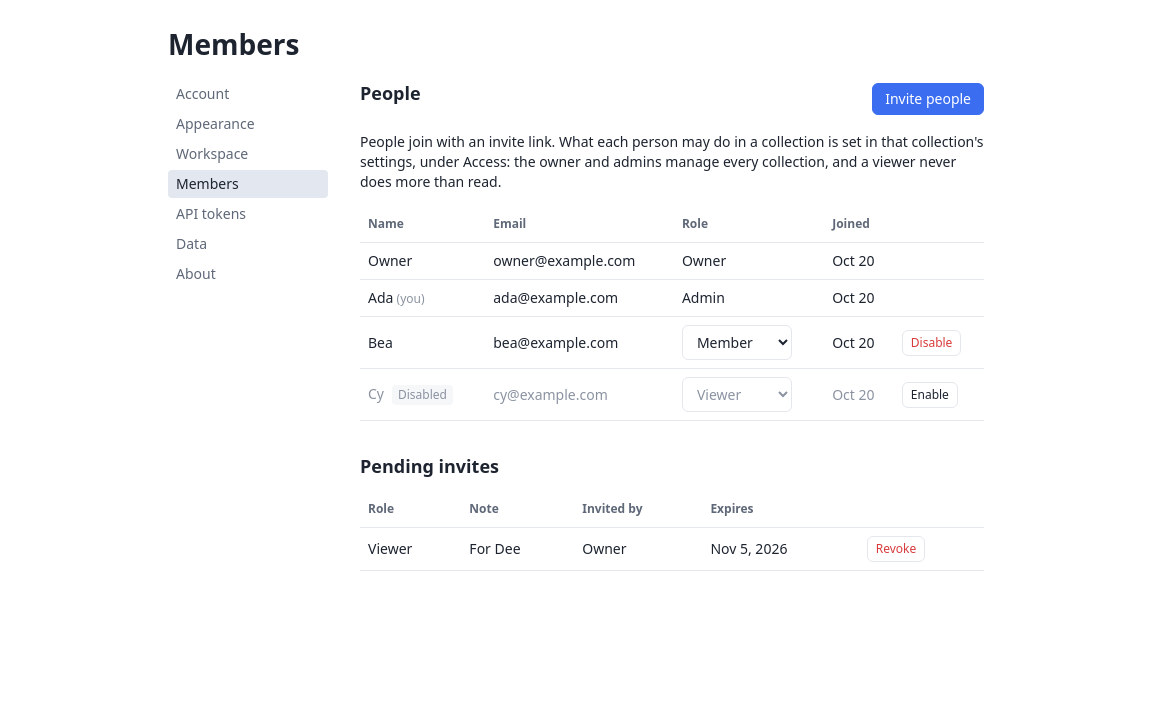
Test: Settings → Members › an admin manages members and viewers only, and cannot invite an admin
This screenshot has width=1152, height=720.
Click the button "Invite people": (928, 99) [872, 83, 984, 115]
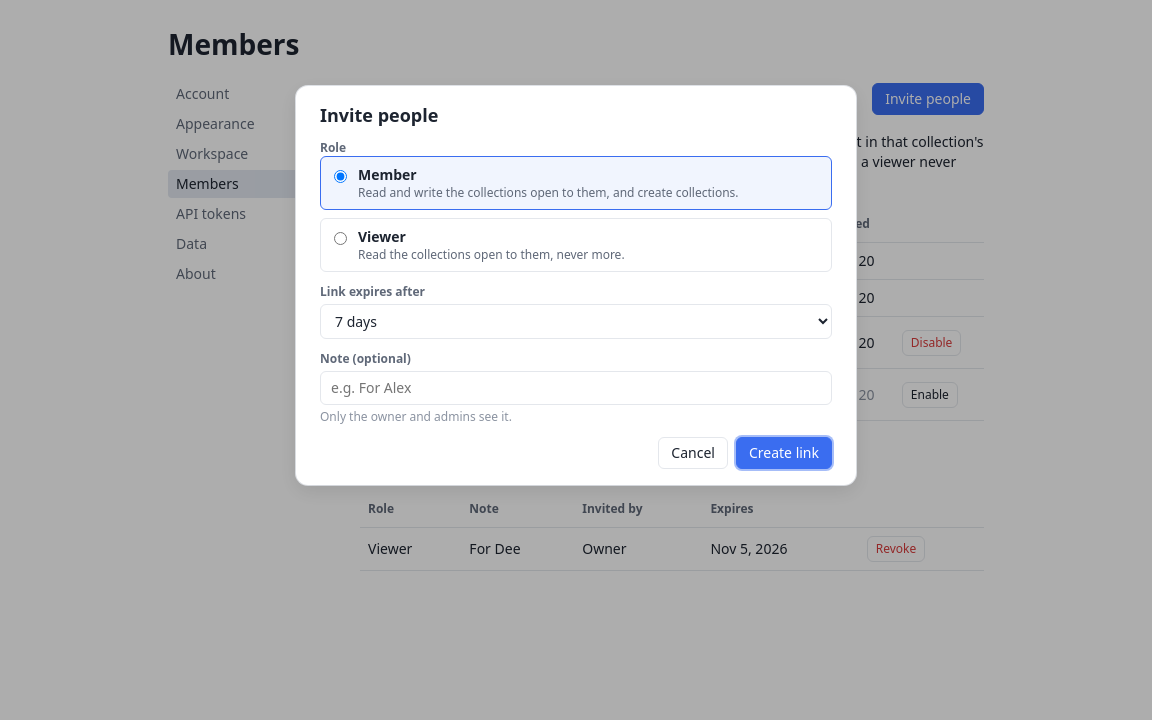
Expected: the radio button labelled "Member" is shown, [334, 170, 347, 183]
